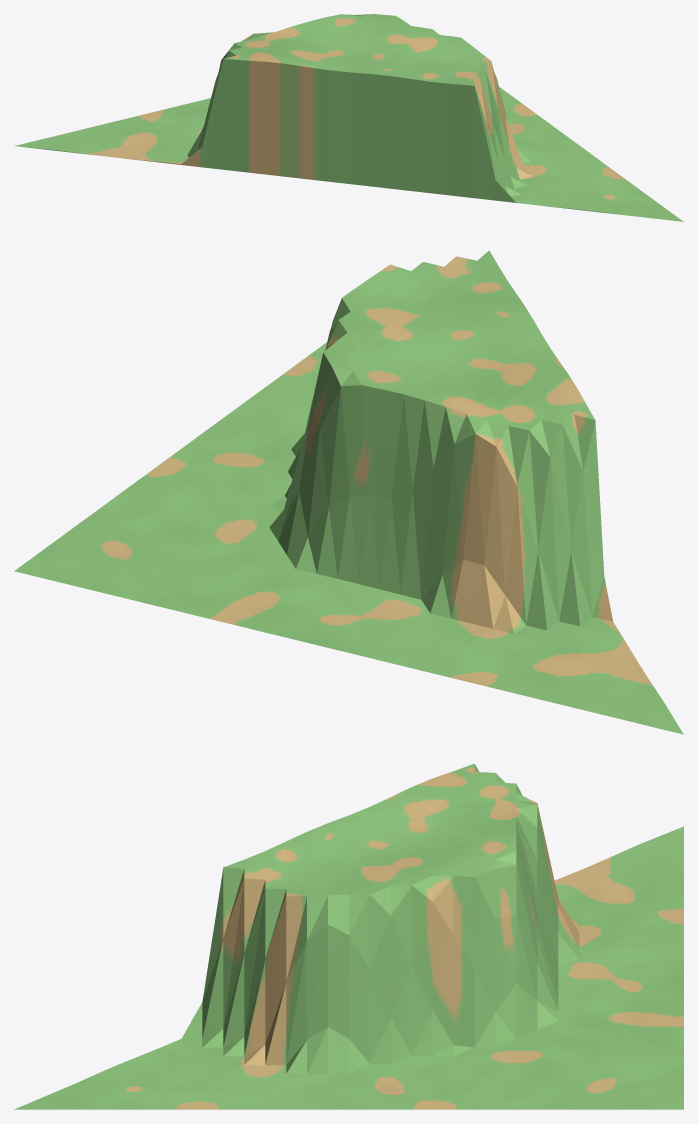
File: Grass_Hills_12_SE.obj
3 renders of one model, top to bottom at view 1: azimuth 30°, elevation 25°; view 2: azimuth 150°, elevation 25°; view 3: azimuth 270°, elevation 25°, orthographic. The views are drawn at different scales.
Size of the model in its own units: 10 by 2.54 by 10.
1 material, 1 textured.
